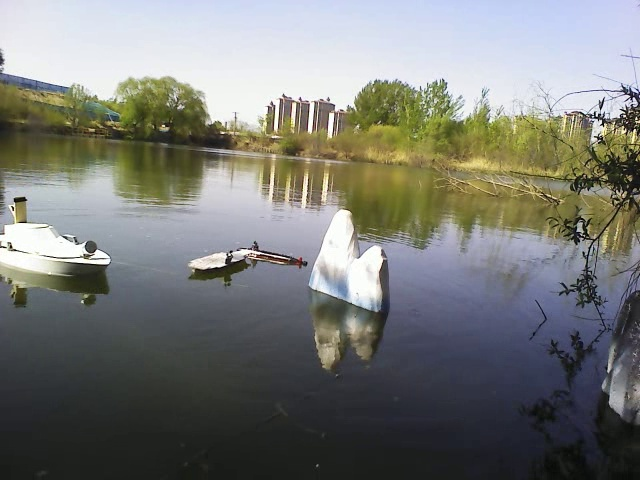aircraft_carrier: (190, 249, 251, 273)
boat: (0, 217, 121, 280)
iceberg: (308, 204, 395, 314)
rock: (589, 273, 639, 429)
submarine: (248, 240, 313, 272)
